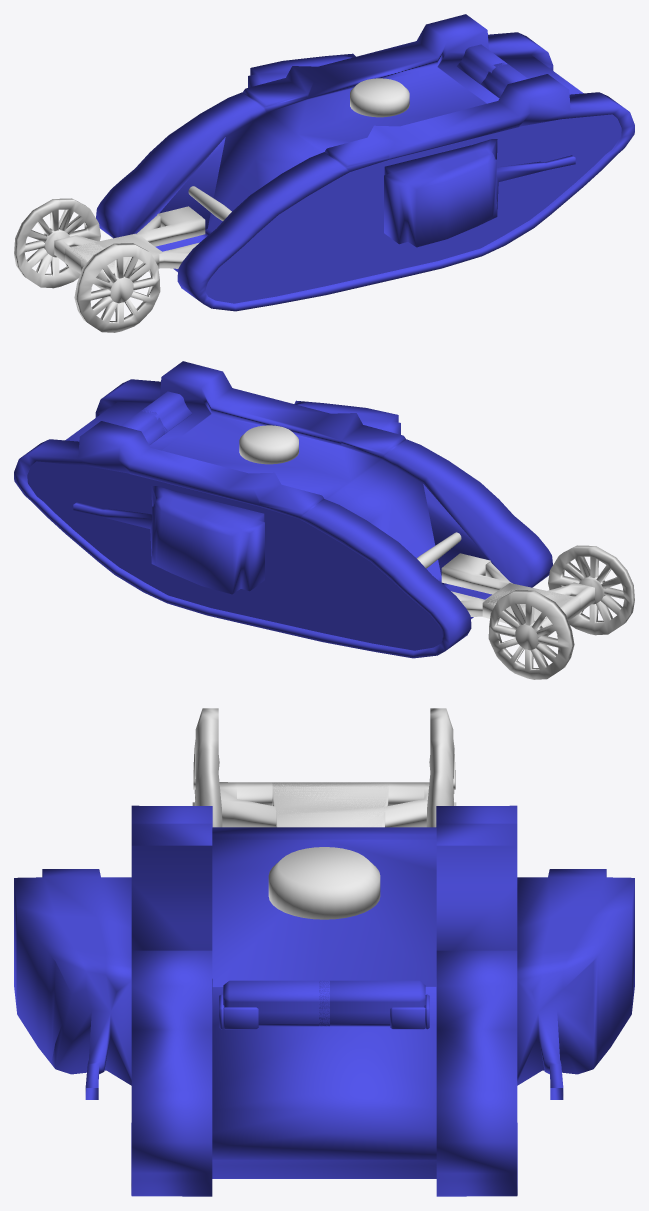
The model's file is mark1.fbx.
The picture shows the model from 3 angles, top to bottom: view 1: azimuth 30°, elevation 25°; view 2: azimuth 150°, elevation 25°; view 3: azimuth 270°, elevation 25°; orthographic projection. The views are drawn at different scales.
Parts seen in each view (by area): view 1: Cube, Cube.001, Cylinder.001, Circle, Cylinder; view 2: Cube, Cube.001, Cylinder.001, Circle, Cylinder; view 3: Cube, Cylinder.001, Circle, Cube.001.
Part boxes in pixels (left/top/right/bottom): Cube: left=96, top=14, right=634, bottom=311; Cube.001: left=14, top=198, right=160, bottom=332; Cylinder.001: left=54, top=206, right=205, bottom=289; Circle: left=350, top=78, right=409, bottom=117; Cylinder: left=188, top=186, right=231, bottom=220; Cube: left=14, top=361, right=552, bottom=658; Cube.001: left=488, top=545, right=634, bottom=679; Cylinder.001: left=441, top=553, right=594, bottom=636; Circle: left=239, top=425, right=298, bottom=464; Cylinder: left=417, top=532, right=461, bottom=568; Cube: left=14, top=805, right=634, bottom=1196; Cylinder.001: left=219, top=782, right=429, bottom=827; Circle: left=268, top=847, right=380, bottom=919; Cube.001: left=192, top=708, right=456, bottom=827.
Size of the model in its own units: 473 by 127 by 254.
